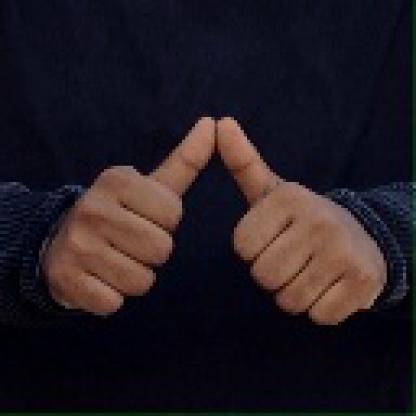A: (52, 107, 378, 324)
